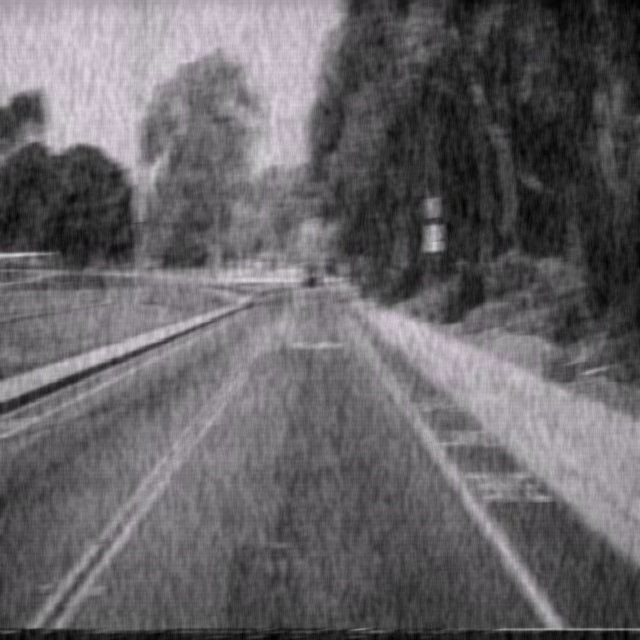speedLimit15: (426, 222, 442, 252)
